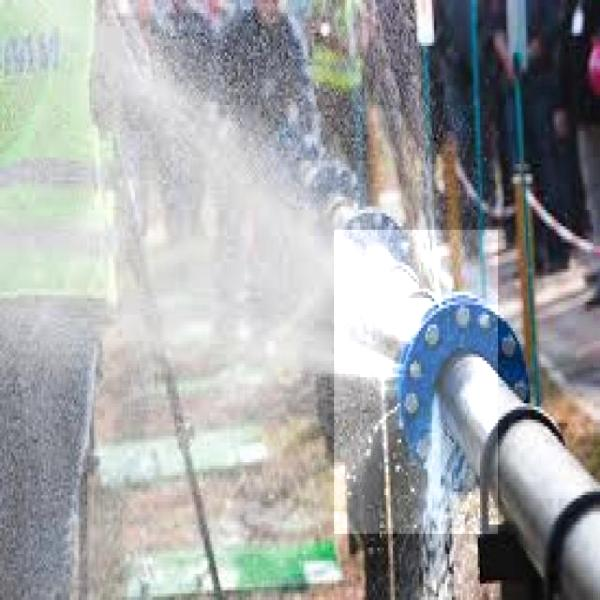water: (334, 230, 498, 534)
